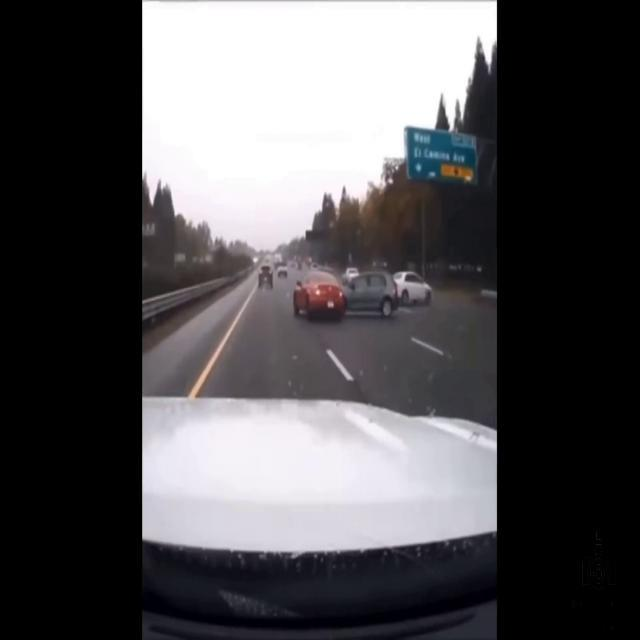accident: (293, 272, 397, 319)
